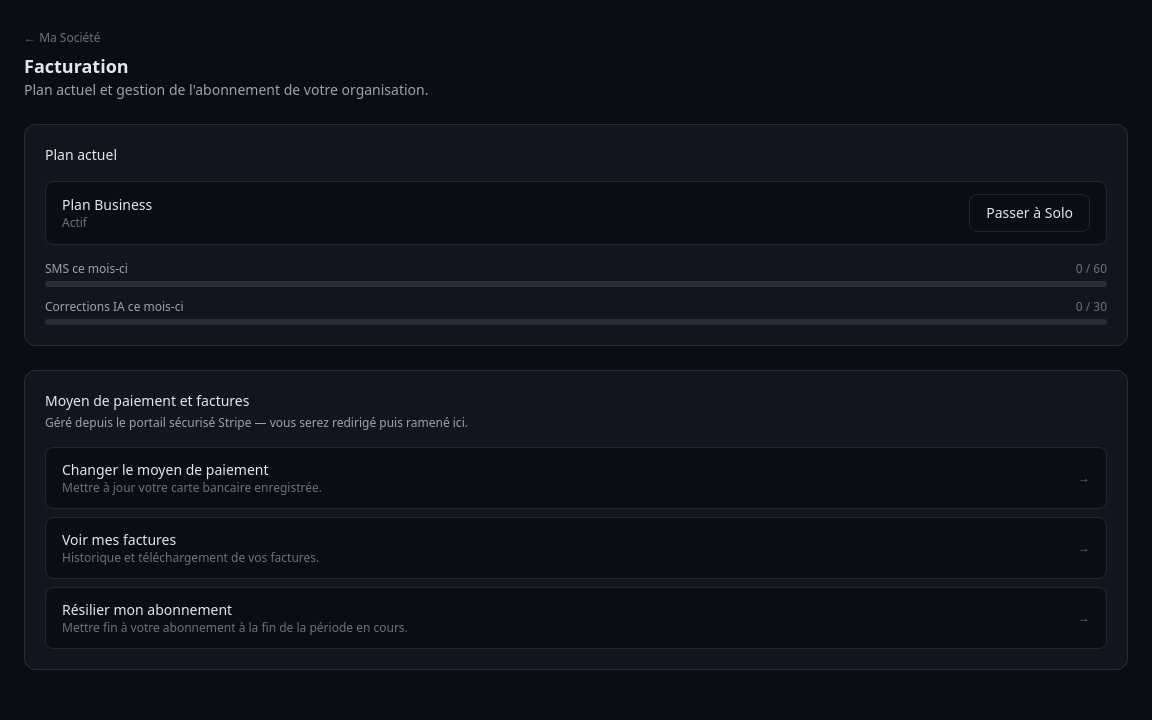
Test: BillingContent — compte organisation › empêche le downgrade si l'organisation a plusieurs membres
The width and height of the screenshot is (1152, 720).
What coordinates should you click on to do the following:
click the button "Passer à Solo"
I would click on:
 (1030, 213)
Its box is [969, 194, 1090, 232].
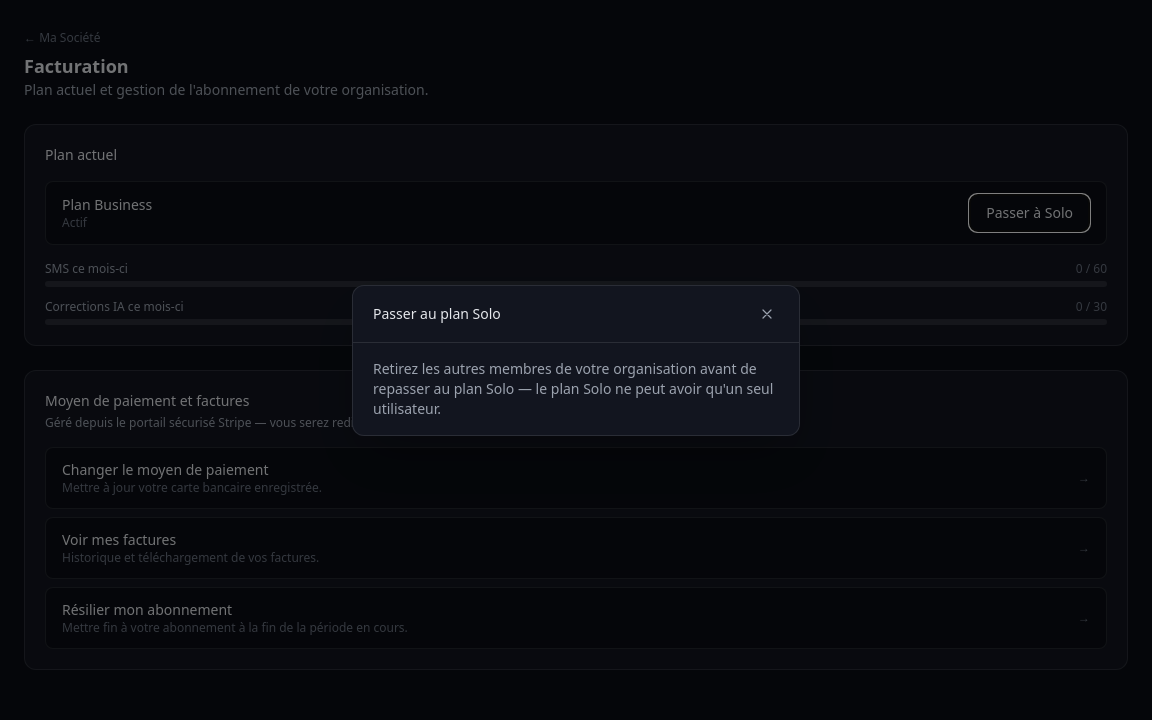
Now the text "Retirez les autres membres" is shown, box [373, 358, 773, 418]
